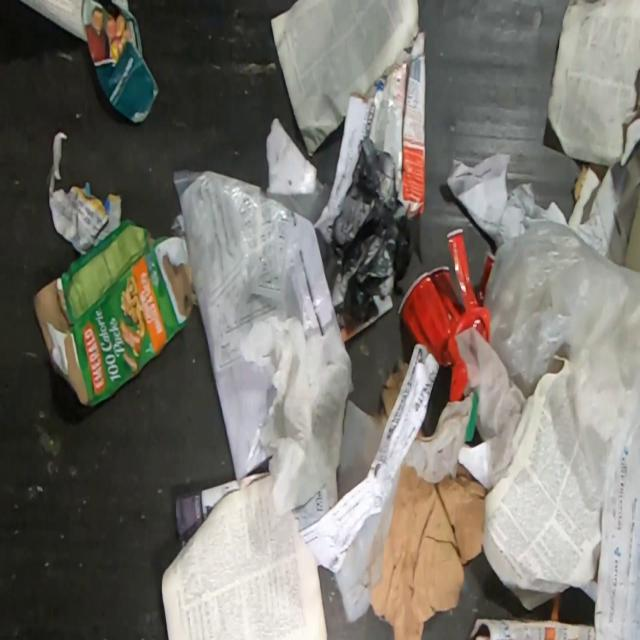cardboard: (28, 222, 194, 409), (568, 65, 639, 267), (363, 21, 427, 220)
rigid_plastic: (396, 228, 490, 403)
soft_plastic: (172, 168, 340, 480), (483, 222, 640, 499), (331, 134, 425, 325)
